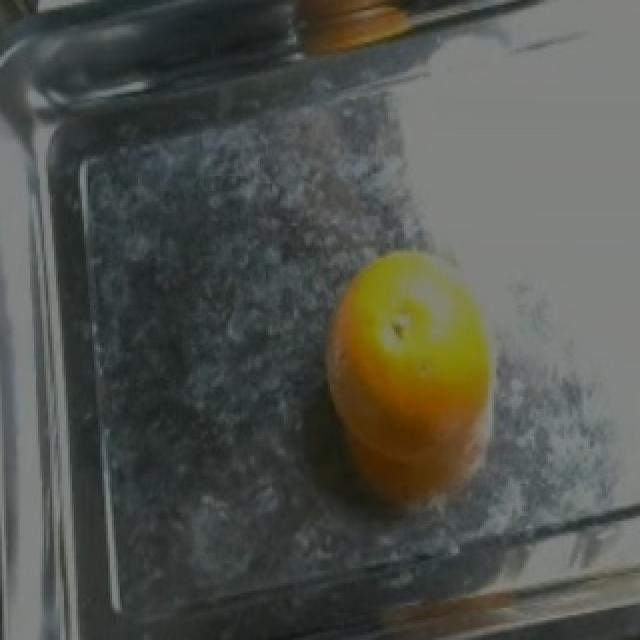Fruit: (310, 223, 520, 563), (232, 2, 442, 77)
